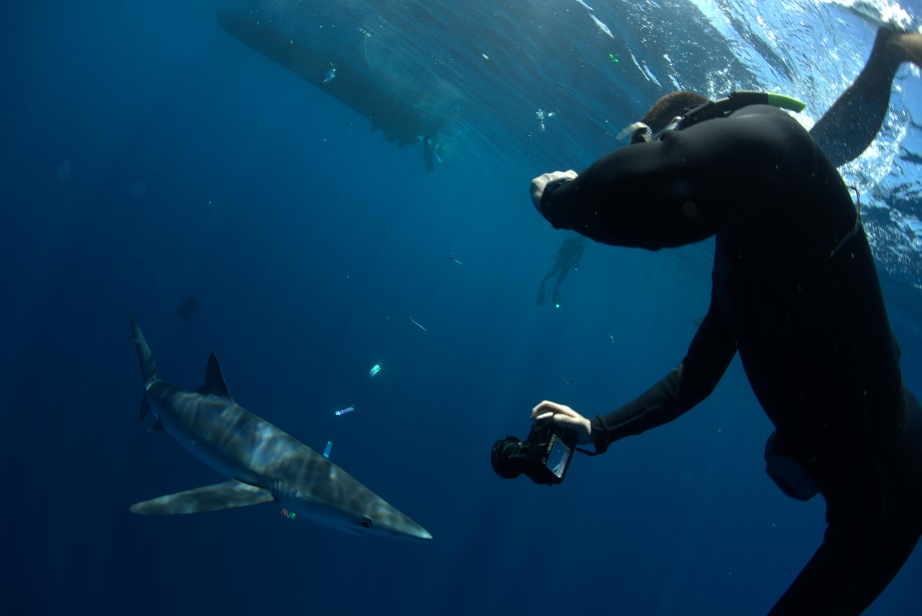Azul: (106, 314, 455, 564)
